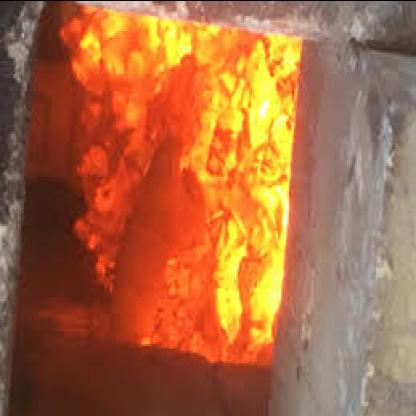Fire: (81, 65, 278, 313)
